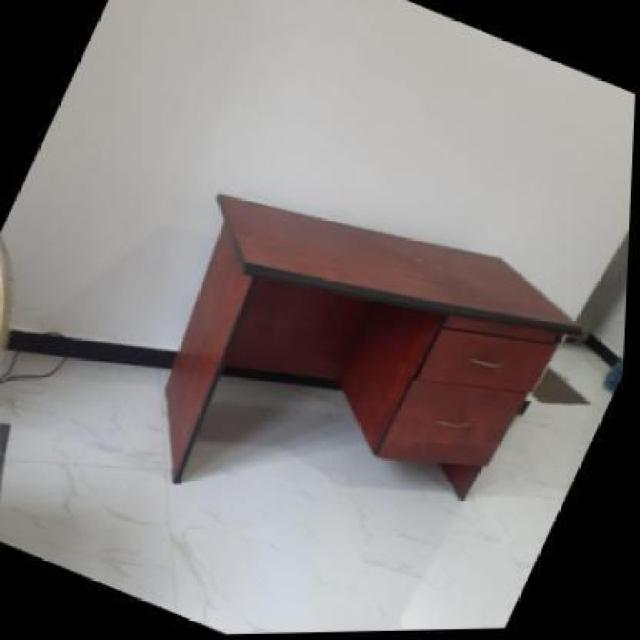tables: (163, 191, 583, 500)
